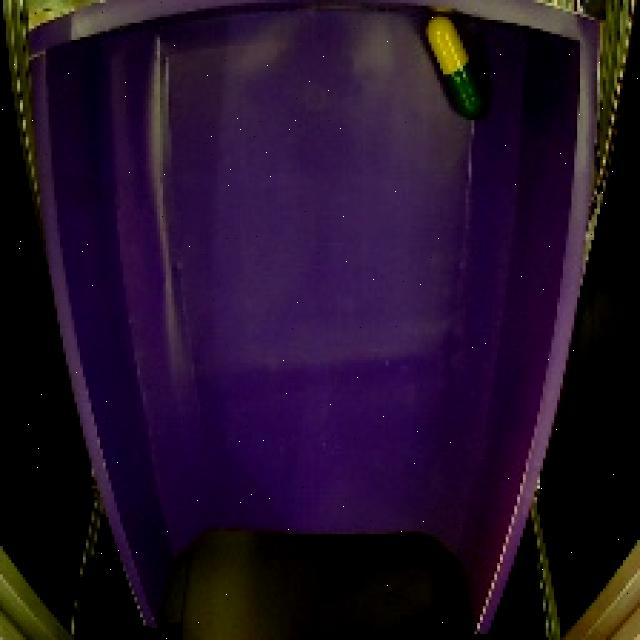small: (418, 9, 493, 128)
